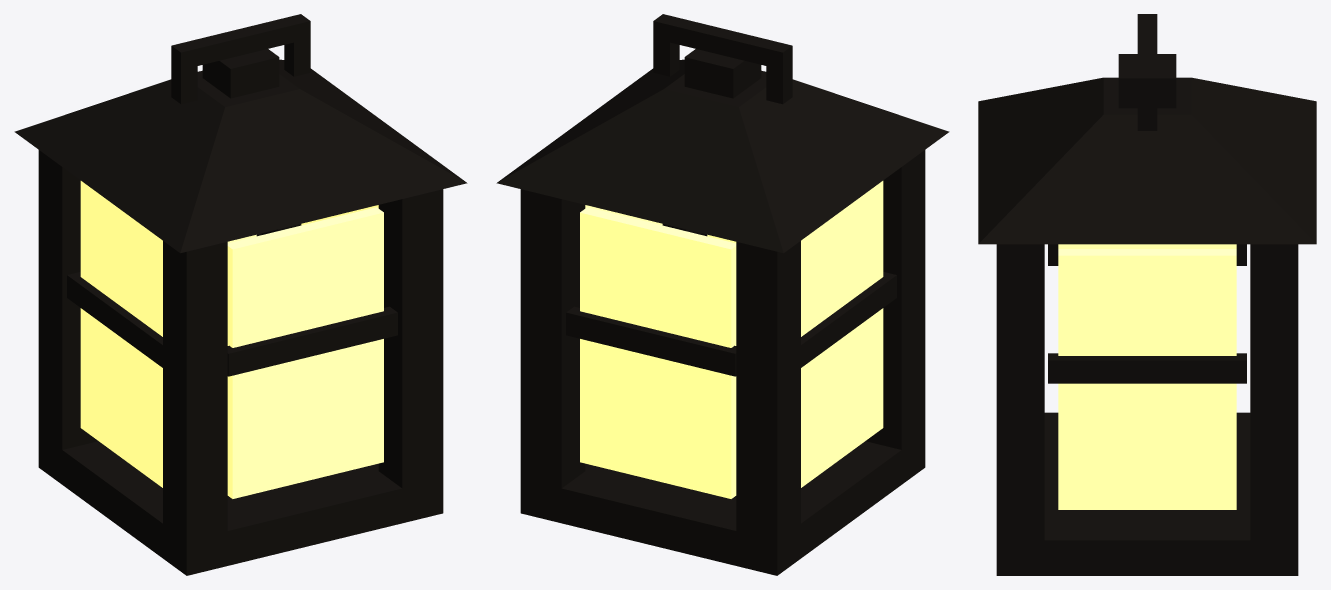
The model's file is lantern.glb.
3 views of the same model, side by side, from view 1: azimuth 30°, elevation 25°; view 2: azimuth 150°, elevation 25°; view 3: azimuth 270°, elevation 25° (orthographic).
Parts seen in each view (by area): view 1: lantern; view 2: lantern; view 3: lantern.
Part boxes in pixels (x1=…): lantern: x1=14, y1=14, x2=467, y2=575; lantern: x1=496, y1=14, x2=949, y2=575; lantern: x1=978, y1=14, x2=1316, y2=575.
Bounding box in the file's own units: 0.224 × 0.3405 × 0.224.
